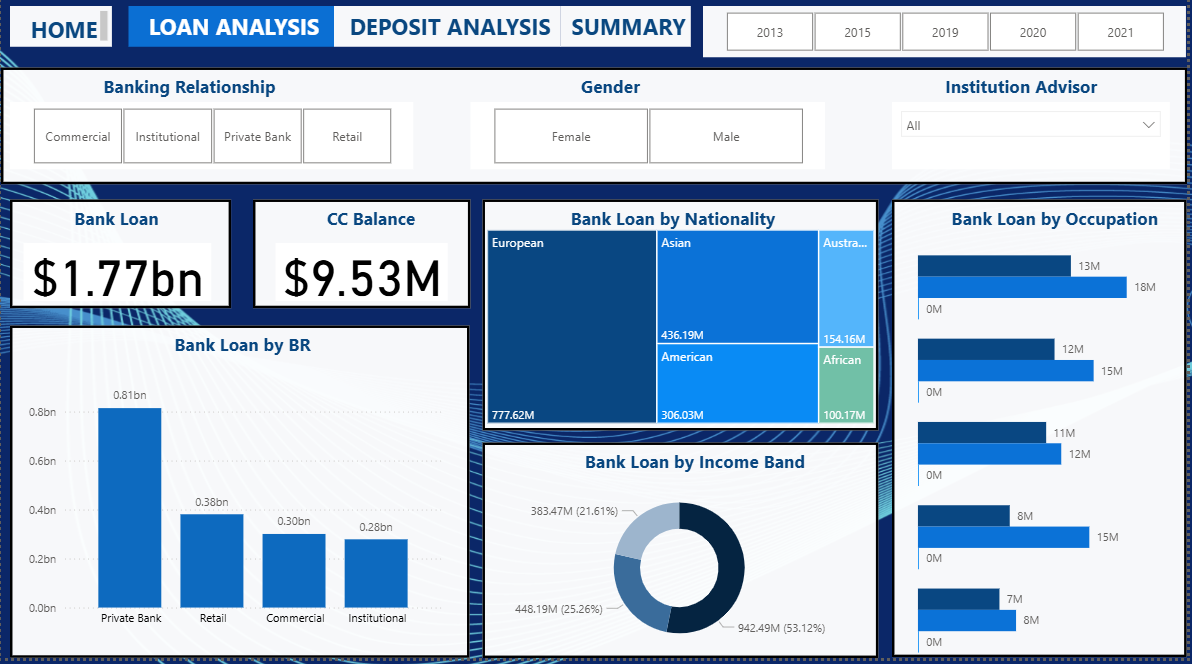

Layout of this report page (visuals, bound fields, positions):
{"tool":"powerbi","page":{"name":"Loan Analysis","canvas":[1280,720],"ordinal":1},"visuals":[{"type":"textbox","box":[9.7,16.2,110.1,43.7],"z":0},{"type":"textbox","box":[137.6,16.2,221.8,43.7],"z":1000},{"type":"textbox","box":[359.5,16.2,244.5,43.7],"z":2000},{"type":"textbox","box":[604,16.2,140.9,43.7],"z":3000},{"type":"slicer","fields":{"Values":["Clients - Banking.Joined Bank.Variation.Date Hierarchy.Year"]},"box":[757.8,16.2,521.4,55.1],"z":4000},{"type":"textbox","box":[0,82.6,1280.8,126.3],"z":5000},{"type":"textbox","box":[10.1,224.8,239,117.5],"z":8000},{"type":"textbox","box":[271.4,224.8,234.9,117.5],"z":9000},{"type":"textbox","box":[520.5,488.1,427.3,232.9],"z":10000},{"type":"textbox","box":[10.1,360.5,496.2,358.5],"z":11000},{"type":"textbox","box":[520.5,224.8,427.3,249.1],"z":12000},{"type":"textbox","box":[962,224.8,318,494.2],"z":13000},{"type":"actionButton","box":[14.6,19.4,105.2,40.5],"z":14000},{"type":"actionButton","box":[359.5,16.2,244.5,43.7],"z":15000},{"type":"actionButton","box":[604,21,140.9,38.9],"z":16000},{"type":"card","fields":{"Values":["Sum(Banking_Clients.Bank Loans)"]},"box":[24.3,271.4,202.5,62.8],"z":18000},{"type":"card","fields":{"Values":["Sum(Banking_Clients.Credit Card Balance)"]},"box":[295.7,271.4,186.3,62.8],"z":20000},{"type":"donutChart","fields":{"Category":["Banking_Clients.Custom"],"Y":["Sum(Banking_Clients.Bank Loans)"]},"box":[534.7,526.6,394.9,192.4],"z":21000},{"type":"clusteredColumnChart","fields":{"Category":["Banking Relationship.Banking Relationship"],"Y":["Sum(Clients - Banking.Bank Loans)"]},"box":[24.3,409.1,457.7,285.6],"z":22000},{"type":"treemap","fields":{"Group":["Banking_Clients.Nationality"],"Values":["Sum(Banking_Clients.Bank Loans)"]},"box":[520.5,253.2,427.3,218.7],"z":23000},{"type":"clusteredBarChart","fields":{"Category":["Banking_Clients.Occupation","Clients - Banking.Nationality","Gender.Gender"],"Y":["Sum(Banking_Clients.Bank Loans)","Sum(Banking_Clients.Business Lending)","Sum(Banking_Clients.Credit Card Balance)"]},"box":[984.3,271.4,279.5,449.6],"z":25000},{"type":"slicer","fields":{"Values":["Banking_Clients.BRId"]},"box":[9.7,119.8,435.6,72.9],"z":26000},{"type":"slicer","fields":{"Values":["Gender.Gender"]},"box":[506.3,119.5,382.8,72.9],"z":27000},{"type":"slicer","fields":{"Values":["Investment Advisor.IAId"]},"box":[962,119.5,299.7,72.9],"z":28000}]}

Visuals, with their boxes in screenshot pixels (x1, y1, x2, y2), scaled from the page's 1280x720 canvas onto the 1192x664 screenshot:
textbox: 9 15 112 55
textbox: 128 15 335 55
textbox: 335 15 562 55
textbox: 562 15 694 55
slicer - Clients - Banking.Joined Bank.Variation.Date Hierarchy.Year: 706 15 1191 66
textbox: 0 76 1191 193
textbox: 9 207 232 316
textbox: 253 207 471 316
textbox: 485 450 883 663
textbox: 9 332 471 663
textbox: 485 207 883 437
textbox: 896 207 1191 663
actionButton: 14 18 112 55
actionButton: 335 15 562 55
actionButton: 562 19 694 55
card - Sum(Banking_Clients.Bank Loans): 23 250 211 308
card - Sum(Banking_Clients.Credit Card Balance): 275 250 449 308
donutChart - Banking_Clients.Custom x Sum(Banking_Clients.Bank Loans): 498 486 866 663
clusteredColumnChart - Banking Relationship.Banking Relationship x Sum(Clients - Banking.Bank Loans): 23 377 449 641
treemap - Banking_Clients.Nationality x Sum(Banking_Clients.Bank Loans): 485 234 883 435
clusteredBarChart - Banking_Clients.Occupation x Clients - Banking.Nationality: 917 250 1177 663
slicer - Banking_Clients.BRId: 9 110 415 178
slicer - Gender.Gender: 471 110 828 177
slicer - Investment Advisor.IAId: 896 110 1175 177
